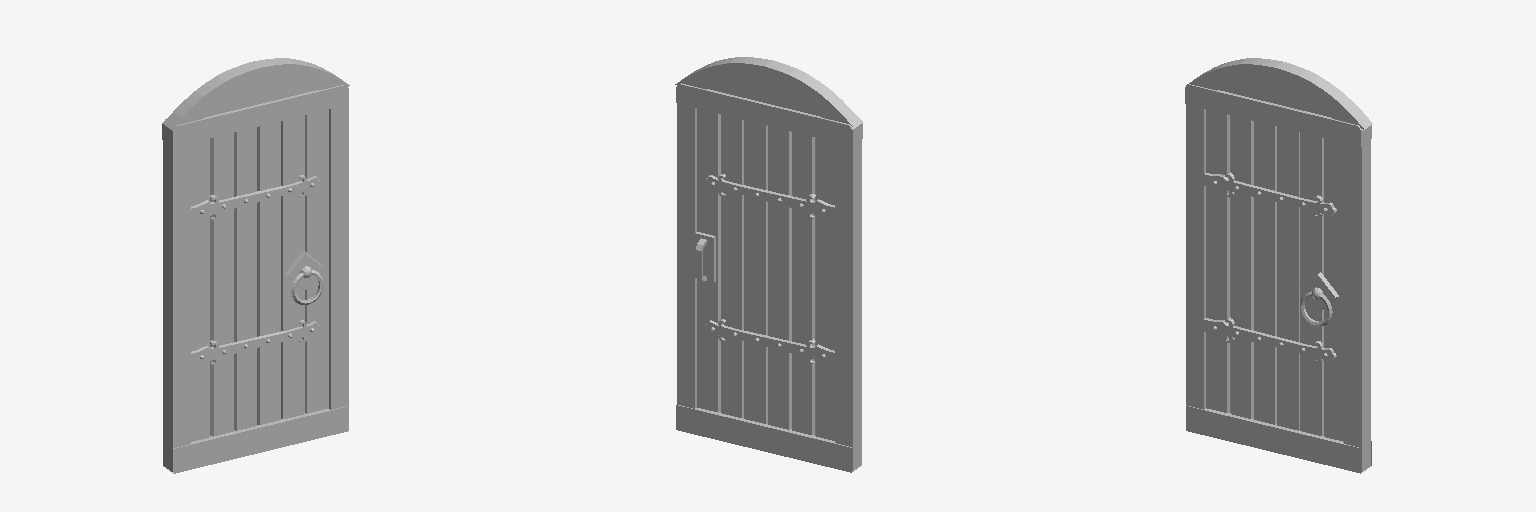
File: Door_5_Round.obj
3 renders of one model, left to right at view 1: azimuth 30°, elevation 25°; view 2: azimuth 150°, elevation 25°; view 3: azimuth 330°, elevation 25°, orthographic.
Parts seen in each view (by area): view 1: Door_5_Round; view 2: Door_5_Round; view 3: Door_5_Round.
Boxes of the visible parts, box(x1,y1,x2,y2) form: Door_5_Round: box(162, 58, 349, 473); Door_5_Round: box(675, 57, 862, 472); Door_5_Round: box(1185, 58, 1372, 473).
Bounding box in the file's own units: 1.14 × 2.32 × 0.1995.